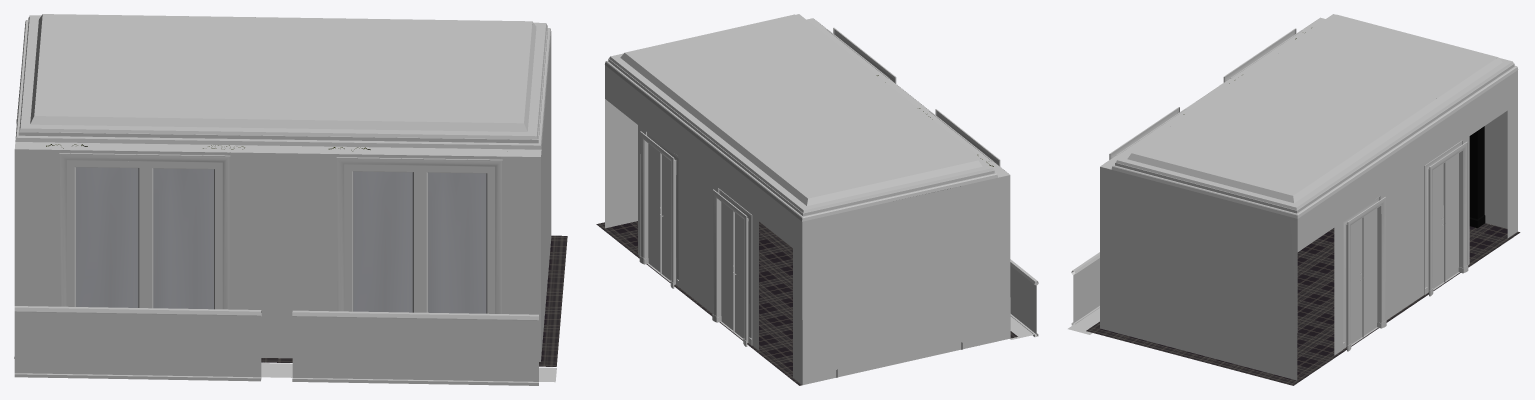
Rendered from SSNt_SalonSonate.fbx.
3 views of the same model, side by side, from view 1: azimuth 30°, elevation 25°; view 2: azimuth 150°, elevation 25°; view 3: azimuth 270°, elevation 25° (orthographic). The views are drawn at different scales.
Visible parts, largest first — view 1: polySurface65, polySurface7, polySurface66, polySurface9; view 2: polySurface65, polySurface66, polySurface9; view 3: polySurface65, polySurface66, polySurface9.
Boxes of the visible parts, x1,y1,x2,y2 form: polySurface65: (14, 14, 567, 385); polySurface7: (76, 167, 486, 313); polySurface66: (59, 145, 502, 313); polySurface9: (15, 14, 551, 149); polySurface65: (596, 14, 1038, 385); polySurface66: (639, 27, 1000, 346); polySurface9: (605, 14, 997, 221); polySurface65: (1068, 14, 1520, 385); polySurface66: (1109, 28, 1468, 351); polySurface9: (1111, 14, 1518, 218).
Size of the model in its own units: 817 by 323 by 734.
